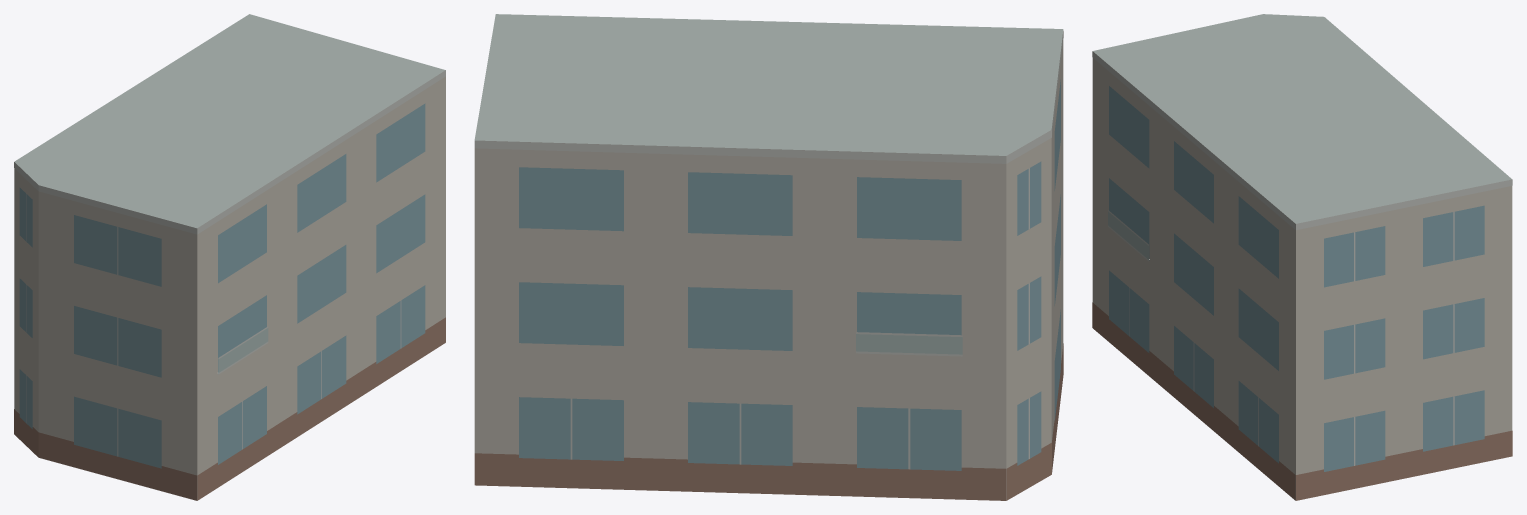
File: survey-upis-32839982.glb
The picture shows the model from 3 angles, left to right: view 1: azimuth 30°, elevation 25°; view 2: azimuth 150°, elevation 25°; view 3: azimuth 270°, elevation 25°; orthographic projection. The views are drawn at different scales.
Parts seen in each view (by area): view 1: survey-upis-32839982.tmp; view 2: survey-upis-32839982.tmp; view 3: survey-upis-32839982.tmp.
Boxes of the visible parts, x1,y1,x2,y2 form: survey-upis-32839982.tmp: [14, 14, 445, 500]; survey-upis-32839982.tmp: [474, 14, 1063, 500]; survey-upis-32839982.tmp: [1092, 14, 1512, 500].
Size of the model in its own units: 17.24 by 10.6 by 14.58.
